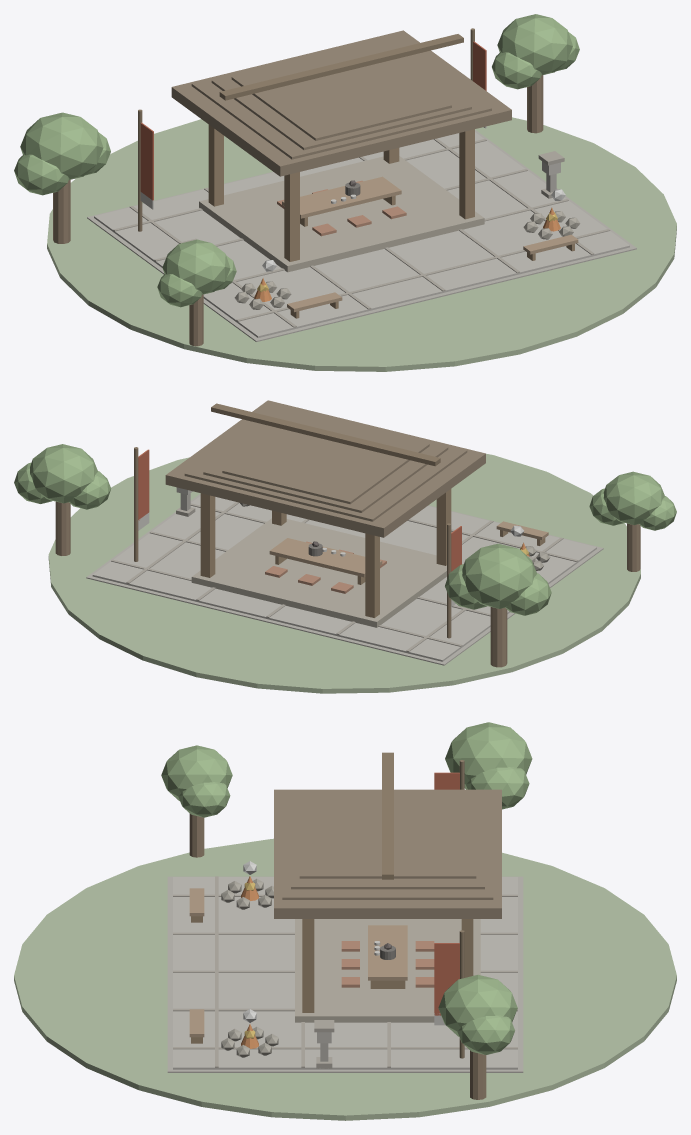
The model's file is hiroma.glb.
3 renders of one model, top to bottom at view 1: azimuth 30°, elevation 25°; view 2: azimuth 150°, elevation 25°; view 3: azimuth 270°, elevation 25°, orthographic. The views are drawn at different scales.
Visible parts, largest first — view 1: part_10, part_15, part_04, part_11, part_03, part_06, part_08, part_02, part_13, part_09, part_05, part_14 (+2 smaller); view 2: part_10, part_04, part_15, part_03, part_11, part_06, part_02, part_08, part_13, part_05, part_09, part_14 (+1 smaller); view 3: part_10, part_15, part_04, part_03, part_11, part_13, part_08, part_09, part_06, part_02, part_14, part_07 (+2 smaller).
Boxes of the visible parts, left/top/right/bottom form: part_10: left=47, top=117, right=676, bottom=371; part_15: left=94, top=132, right=629, bottom=337; part_04: left=171, top=30, right=511, bottom=176; part_11: left=199, top=156, right=484, bottom=272; part_03: left=14, top=14, right=579, bottom=307; part_06: left=208, top=125, right=574, bottom=318; part_08: left=113, top=138, right=610, bottom=327; part_02: left=138, top=28, right=474, bottom=231; part_13: left=87, top=130, right=636, bottom=341; part_09: left=282, top=176, right=578, bottom=312; part_05: left=53, top=75, right=543, bottom=346; part_14: left=140, top=41, right=486, bottom=200; part_10: left=48, top=453, right=640, bottom=693; part_04: left=165, top=400, right=485, bottom=537; part_15: left=92, top=487, right=596, bottom=661; part_03: left=14, top=444, right=676, bottom=615; part_11: left=191, top=518, right=446, bottom=627; part_06: left=200, top=489, right=545, bottom=617; part_02: left=134, top=403, right=451, bottom=638; part_08: left=111, top=502, right=578, bottom=651; part_13: left=86, top=493, right=603, bottom=665; part_05: left=55, top=501, right=640, bottom=667; part_09: left=269, top=521, right=548, bottom=577; part_14: left=138, top=449, right=461, bottom=571; part_10: left=14, top=838, right=676, bottom=1120; part_15: left=173, top=877, right=517, bottom=1069; part_04: left=274, top=789, right=501, bottom=918; part_03: left=161, top=722, right=532, bottom=1054; part_11: left=295, top=919, right=480, bottom=1022; part_13: left=167, top=876, right=523, bottom=1072; part_08: left=173, top=876, right=517, bottom=1068; part_09: left=189, top=888, right=407, bottom=1037; part_06: left=191, top=916, right=473, bottom=1043; part_02: left=382, top=752, right=464, bottom=1058; part_14: left=434, top=772, right=459, bottom=1015; part_07: left=221, top=878, right=278, bottom=1057.
Size of the model in its own units: 25.65 by 6.95 by 25.
